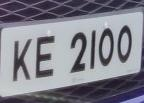0: (98, 20, 116, 73), (115, 20, 134, 68)
1: (87, 22, 100, 77)
2: (67, 25, 90, 81)
F: (31, 30, 59, 85)
K: (10, 32, 35, 87)
